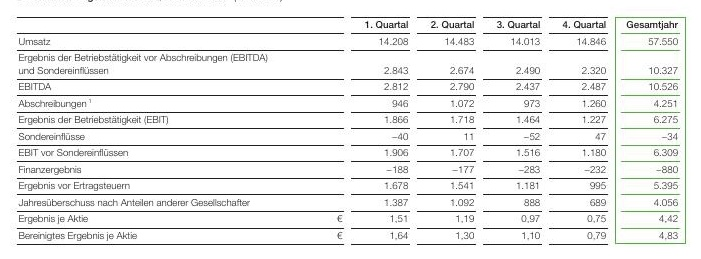table: (0, 0, 701, 259)
